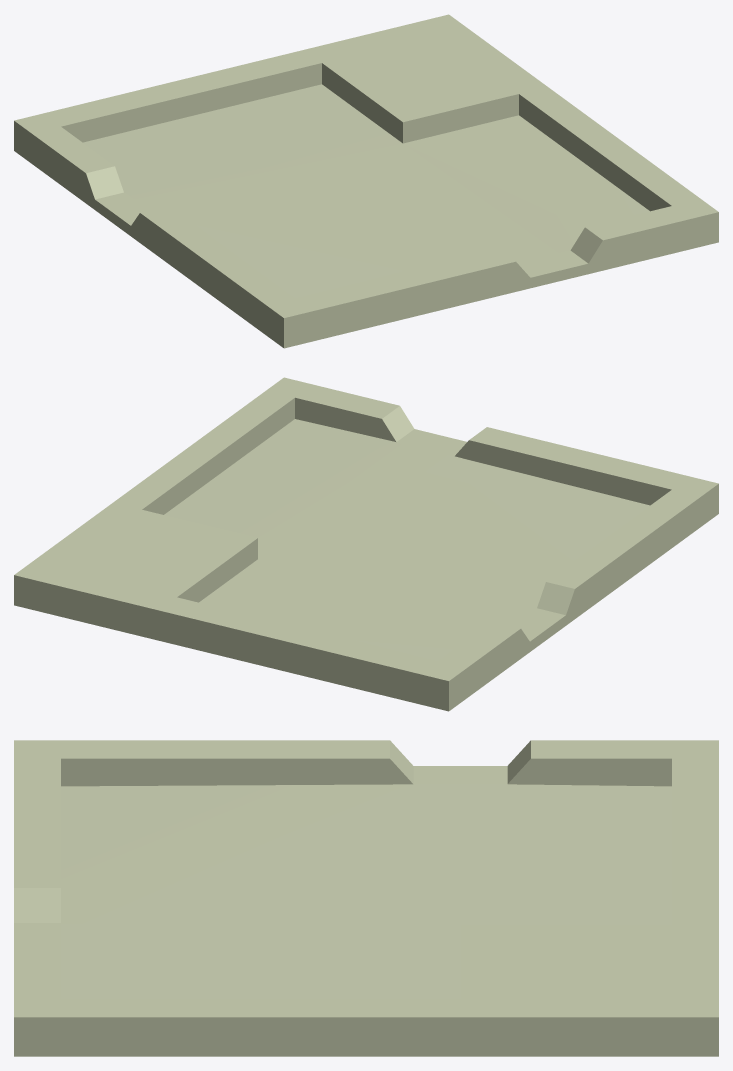
Rendered from cityblock.2.obj.
The picture shows the model from 3 angles, top to bottom: view 1: azimuth 30°, elevation 25°; view 2: azimuth 150°, elevation 25°; view 3: azimuth 270°, elevation 25°; orthographic projection. The views are drawn at different scales.
Visible parts, largest first — view 1: City Floor; view 2: City Floor; view 3: City Floor.
Part boxes in pixels (x1,y1,x2,y2): City Floor: (14,14,718,348); City Floor: (14,377,718,711); City Floor: (14,740,718,1056).
Bounding box in the file's own units: 3.06 × 0.2036 × 3.29.
